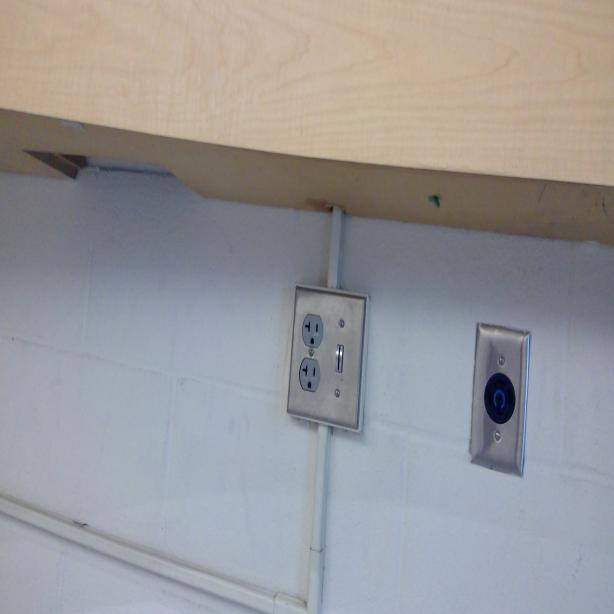typeb: (298, 359, 322, 394), (302, 312, 324, 350)
